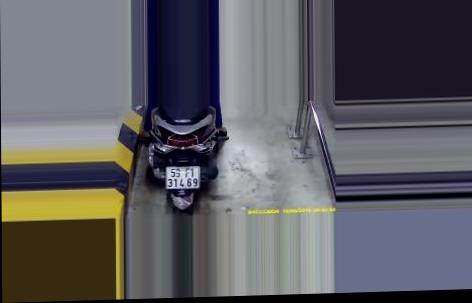License_Plate: (163, 162, 205, 191)
